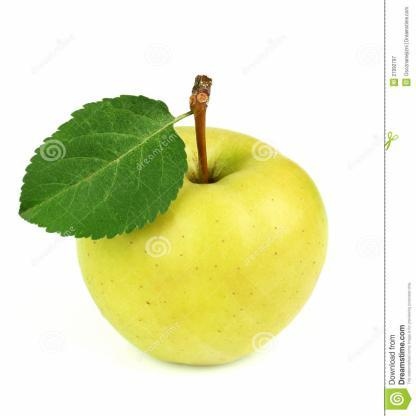Apple leaf: (8, 83, 194, 247)
